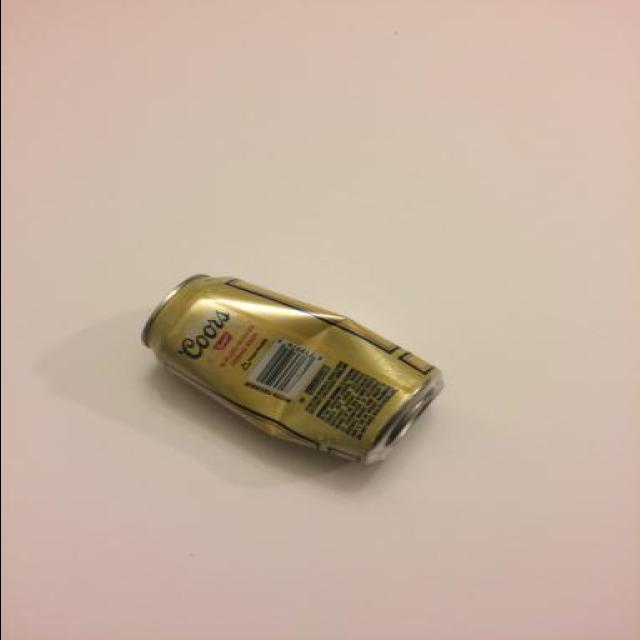litter: (117, 250, 460, 478)
